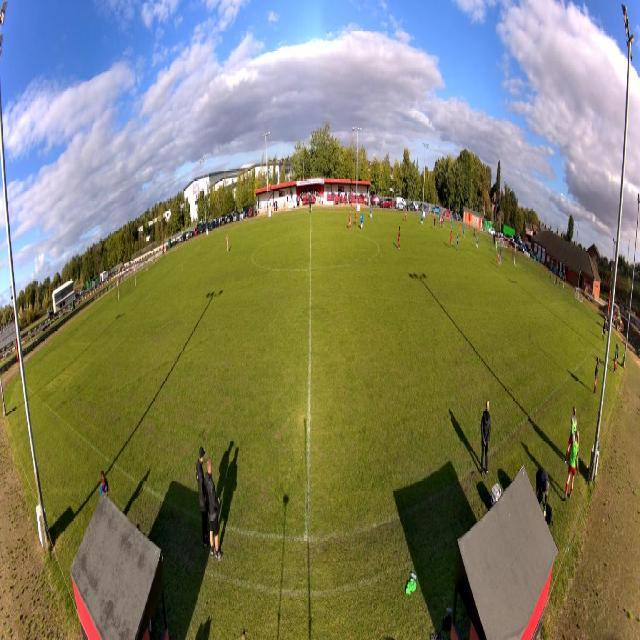player: (348, 208, 352, 232), (360, 210, 364, 230), (398, 225, 401, 251), (226, 233, 229, 254), (355, 207, 358, 226), (450, 231, 453, 250), (456, 232, 459, 251), (476, 232, 479, 250), (404, 207, 407, 223), (421, 210, 424, 226), (463, 224, 466, 240), (497, 250, 499, 269), (495, 237, 497, 254), (499, 248, 501, 265), (438, 214, 441, 225), (434, 216, 436, 232), (459, 223, 461, 238), (370, 205, 372, 219), (451, 217, 453, 231), (441, 216, 443, 228), (440, 214, 442, 225), (443, 218, 445, 229)
